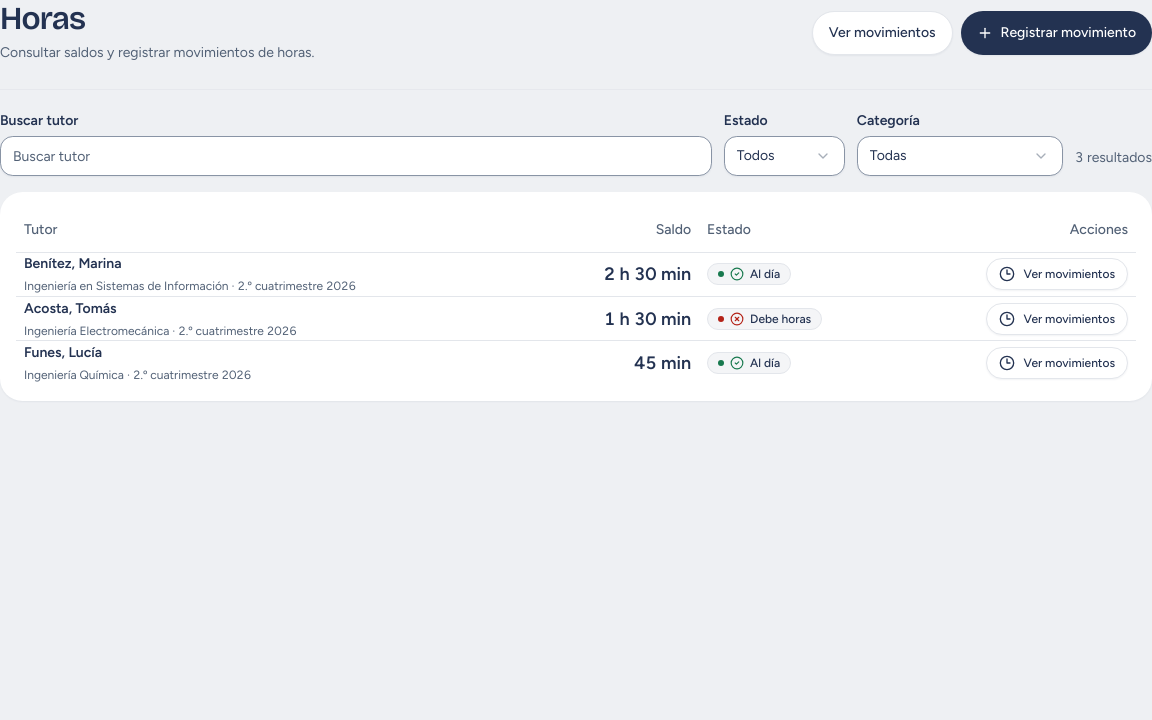
Test: HoursScreen › supports activity credit and explicit recovery recognition
The width and height of the screenshot is (1152, 720).
Click the button "Registrar movimiento" at (1056, 33), box [960,11,1151,55]
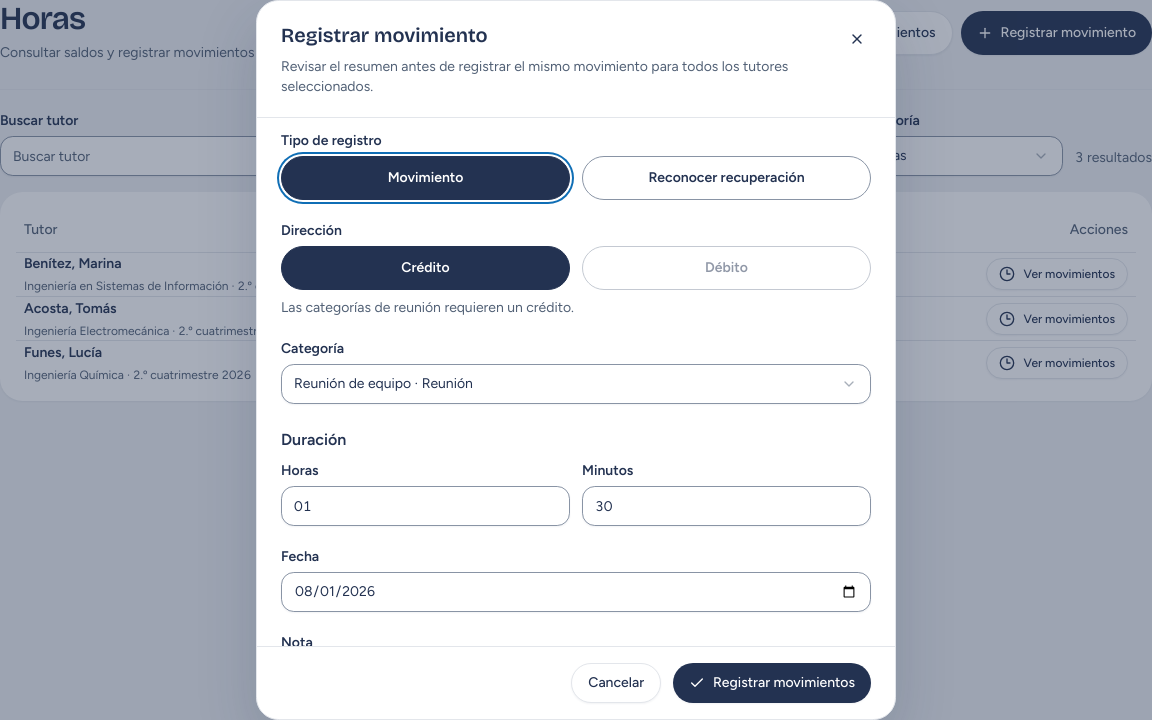
Click the radio button labelled "Reconocer recuperación" at (726, 178), box [582,156,871,200]
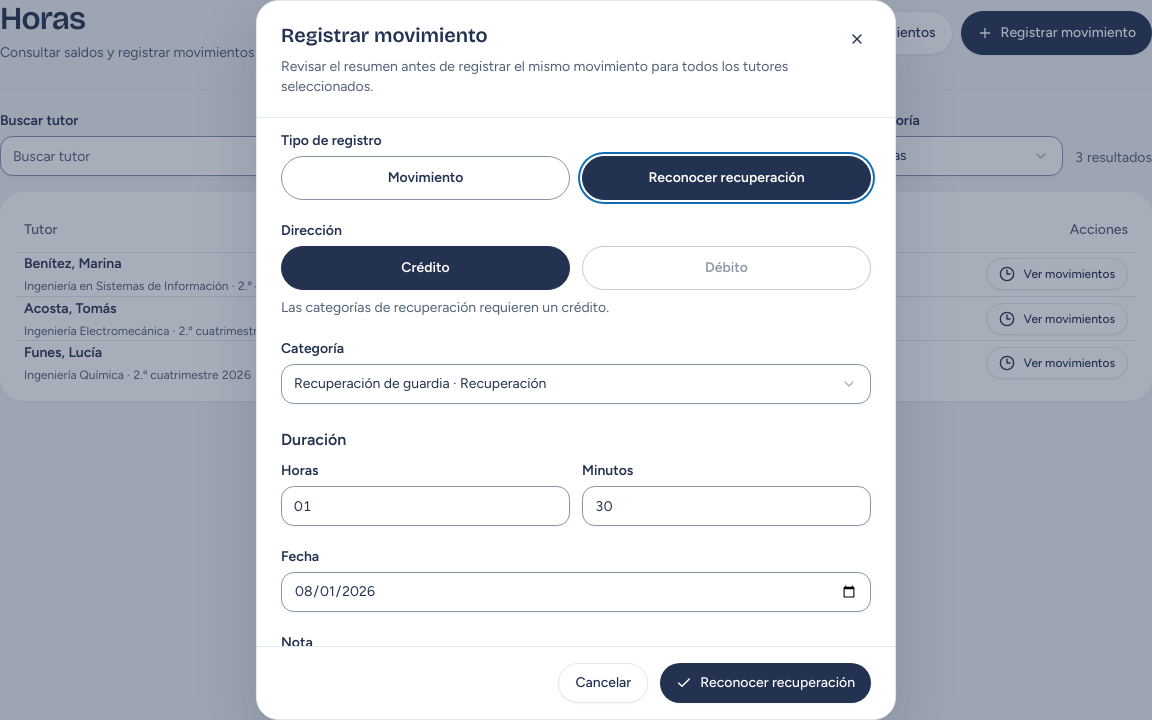
Result: the radio button labelled "Débito" is disabled at [582,246,871,290]
Result: the dropdown labelled "Categoría" shows "Recuperación de guardia · Recuperación" at [281,364,871,404]
